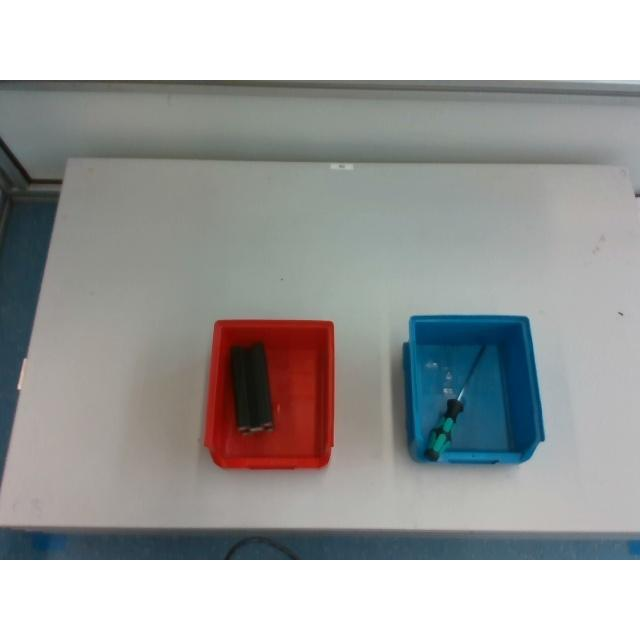S40_40_B: (230, 342, 274, 432)
Screwdriver: (425, 345, 487, 461)
container_box_blue: (404, 315, 544, 463)
container_box_red: (204, 320, 332, 468)
